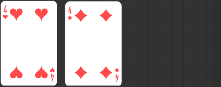4H: (1, 4, 9, 20)
